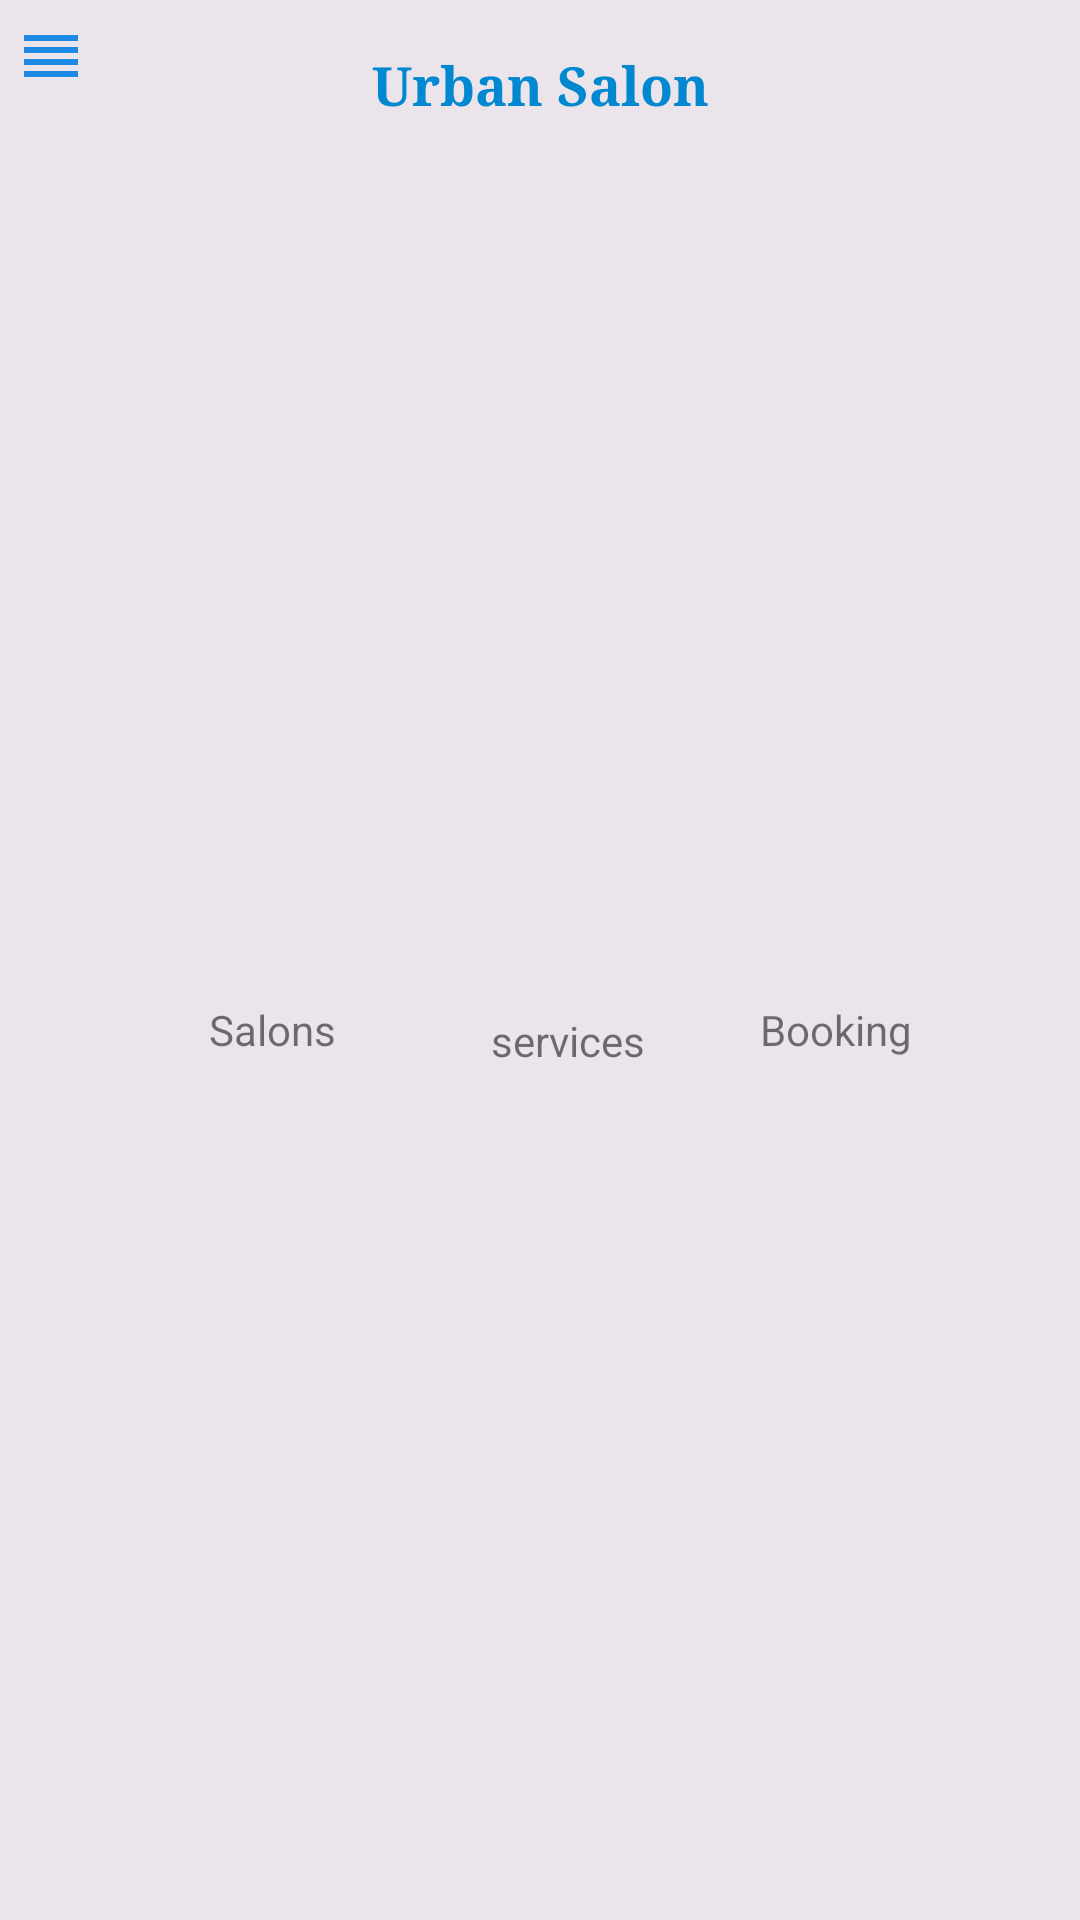

Locate icon controls on the screen. Image size 1080px x 1920px, boxes as (x1, y1, x2, y2).
options: (24, 35, 78, 77)
